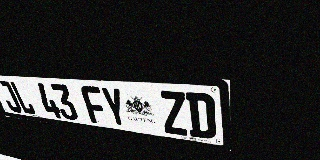3: (50, 84, 79, 121)
4: (34, 83, 63, 119)
D: (185, 92, 216, 140)
F: (80, 86, 110, 125)
J: (0, 80, 23, 113)
L: (9, 81, 37, 115)
Y: (99, 87, 130, 128)
Z: (158, 90, 189, 136)
